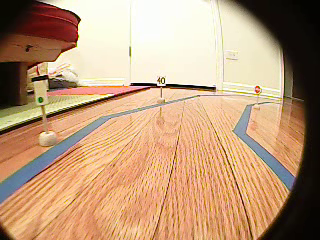Green Traffic Light: (32, 76, 50, 105)
Speed Limit 40: (156, 74, 166, 86)
Stop Sign: (254, 84, 263, 95)
